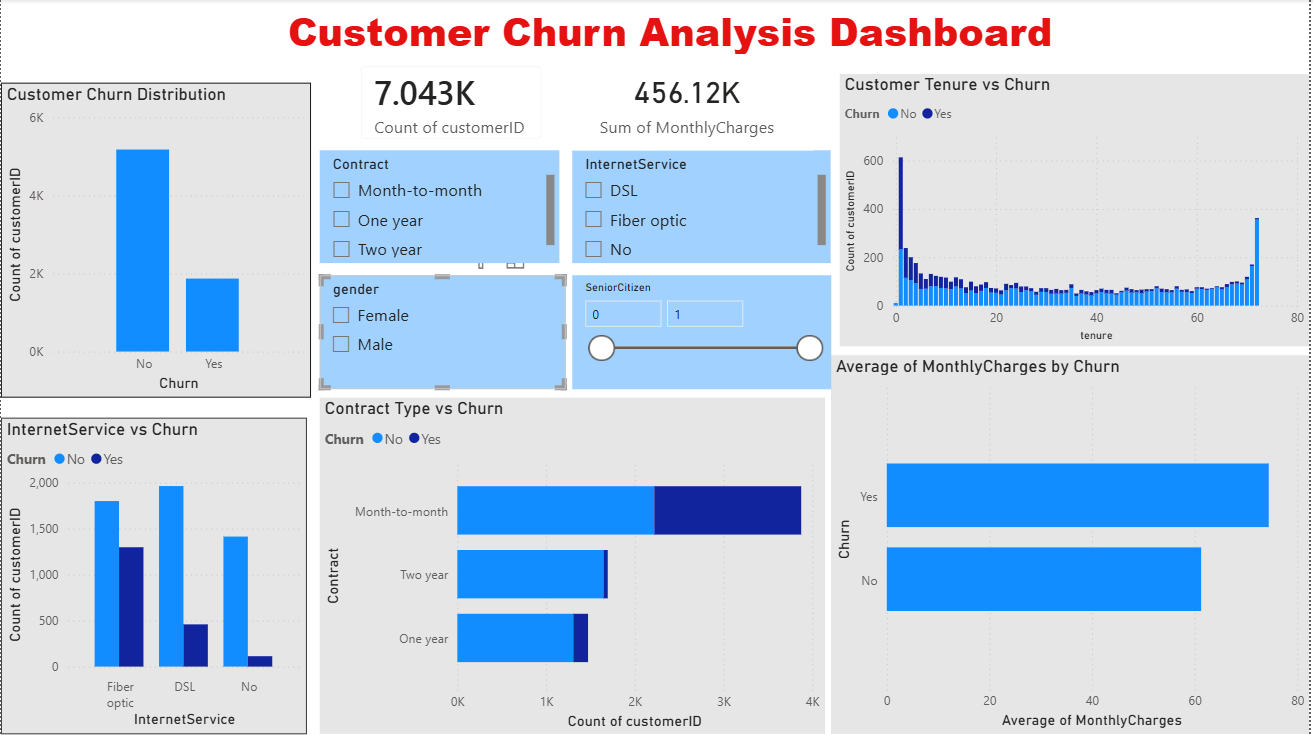

The page's visual inventory and layout, read from the dashboard file:
{"tool":"powerbi","page":{"name":"Page 1","canvas":[1280,720],"ordinal":0},"visuals":[{"type":"cardVisual","fields":{"Data":["Count(WA_Fn-UseC_-Telco-Customer-Churn.customerID)"]},"box":[335.1,48.9,211.6,105.2],"z":0},{"type":"clusteredColumnChart","title":"Customer Churn Distribution","fields":{"Category":["WA_Fn-UseC_-Telco-Customer-Churn.Churn"],"Y":["Count(WA_Fn-UseC_-Telco-Customer-Churn.customerID)"]},"box":[0,81.9,303.3,308.2],"z":1000},{"type":"barChart","fields":{"Category":["WA_Fn-UseC_-Telco-Customer-Churn.Churn"],"Y":["Avg(WA_Fn-UseC_-Telco-Customer-Churn.MonthlyCharges)"]},"box":[812,348.5,468.3,370.5],"z":2000},{"type":"barChart","title":"Contract Type vs Churn","fields":{"Series":["WA_Fn-UseC_-Telco-Customer-Churn.Churn"],"Category":["WA_Fn-UseC_-Telco-Customer-Churn.Contract"],"Y":["Count(WA_Fn-UseC_-Telco-Customer-Churn.customerID)"]},"box":[311.8,390.1,494,328.9],"z":3000},{"type":"columnChart","title":"Customer Tenure vs Churn","fields":{"Series":["WA_Fn-UseC_-Telco-Customer-Churn.Churn"],"Category":["WA_Fn-UseC_-Telco-Customer-Churn.tenure"],"Y":["CountNonNull(WA_Fn-UseC_-Telco-Customer-Churn.customerID)"]},"box":[820.5,73.4,459.8,266.6],"z":4000},{"type":"slicer","fields":{"Values":["WA_Fn-UseC_-Telco-Customer-Churn.gender"]},"box":[303.3,270.2,249.5,111.3],"z":5000},{"type":"slicer","fields":{"Values":["WA_Fn-UseC_-Telco-Customer-Churn.Contract"]},"box":[303.3,148,243.3,110.1],"z":6000},{"type":"slicer","fields":{"Values":["WA_Fn-UseC_-Telco-Customer-Churn.InternetService"]},"box":[558.8,148,253.1,110.1],"z":7000},{"type":"slicer","fields":{"Values":["WA_Fn-UseC_-Telco-Customer-Churn.SeniorCitizen"]},"box":[558.8,258,253.1,123.5],"z":8000},{"type":"textbox","box":[100.2,0,1108.8,63.1],"z":9000},{"type":"clusteredColumnChart","title":"InternetService vs Churn","fields":{"Category":["WA_Fn-UseC_-Telco-Customer-Churn.InternetService"],"Series":["WA_Fn-UseC_-Telco-Customer-Churn.Churn"],"Y":["Count(WA_Fn-UseC_-Telco-Customer-Churn.customerID)"]},"box":[0,409.6,299.6,309.4],"z":10000},{"type":"card","fields":{"Values":["Sum(WA_Fn-UseC_-Telco-Customer-Churn.MonthlyCharges)"]},"box":[547.8,53.8,247,94.2],"z":11000}]}

Visuals, with their boxes in screenshot pixels (x1, y1, x2, y2), scaled from the page's 1280x720 canvas onto the 1313x735 screenshot:
cardVisual - Count(WA_Fn-UseC_-Telco-Customer-Churn.customerID): [344, 50, 561, 157]
"Customer Churn Distribution" clusteredColumnChart: [0, 84, 311, 398]
barChart - WA_Fn-UseC_-Telco-Customer-Churn.Churn x Avg(WA_Fn-UseC_-Telco-Customer-Churn.MonthlyCharges): [833, 356, 1312, 734]
"Contract Type vs Churn" barChart: [320, 398, 827, 734]
"Customer Tenure vs Churn" columnChart: [842, 75, 1312, 347]
slicer - WA_Fn-UseC_-Telco-Customer-Churn.gender: [311, 276, 567, 389]
slicer - WA_Fn-UseC_-Telco-Customer-Churn.Contract: [311, 151, 561, 263]
slicer - WA_Fn-UseC_-Telco-Customer-Churn.InternetService: [573, 151, 833, 263]
slicer - WA_Fn-UseC_-Telco-Customer-Churn.SeniorCitizen: [573, 263, 833, 389]
textbox: [103, 0, 1240, 64]
"InternetService vs Churn" clusteredColumnChart: [0, 418, 307, 734]
card - Sum(WA_Fn-UseC_-Telco-Customer-Churn.MonthlyCharges): [562, 55, 815, 151]
